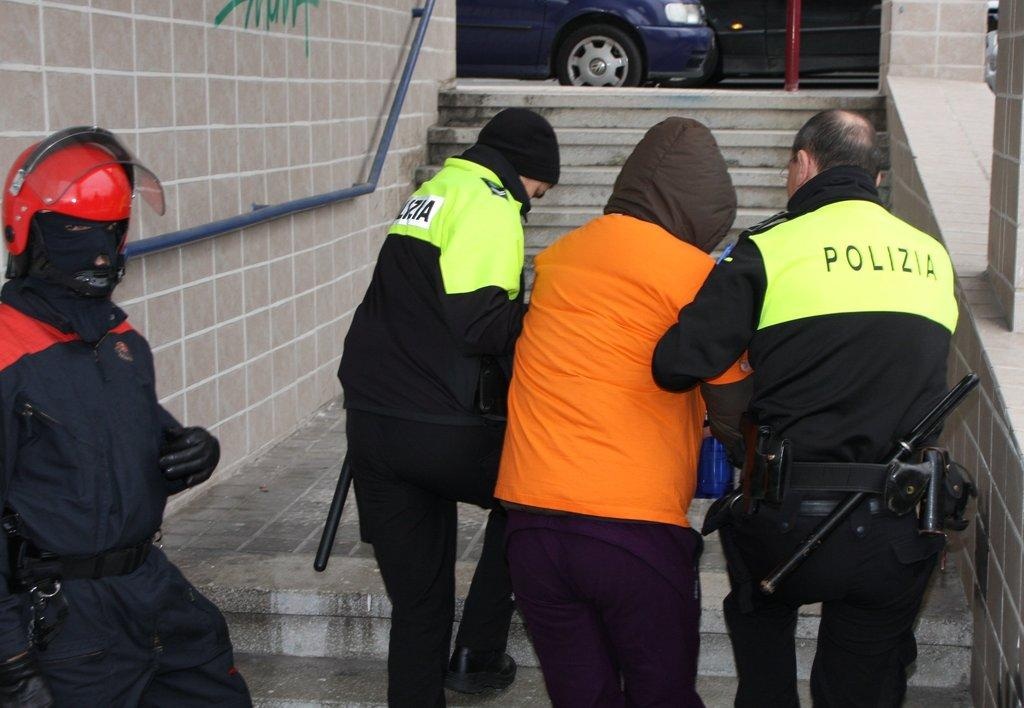helmet: (0, 125, 165, 284)
nohelmet: (604, 116, 738, 256), (781, 108, 883, 226), (475, 106, 561, 218)
